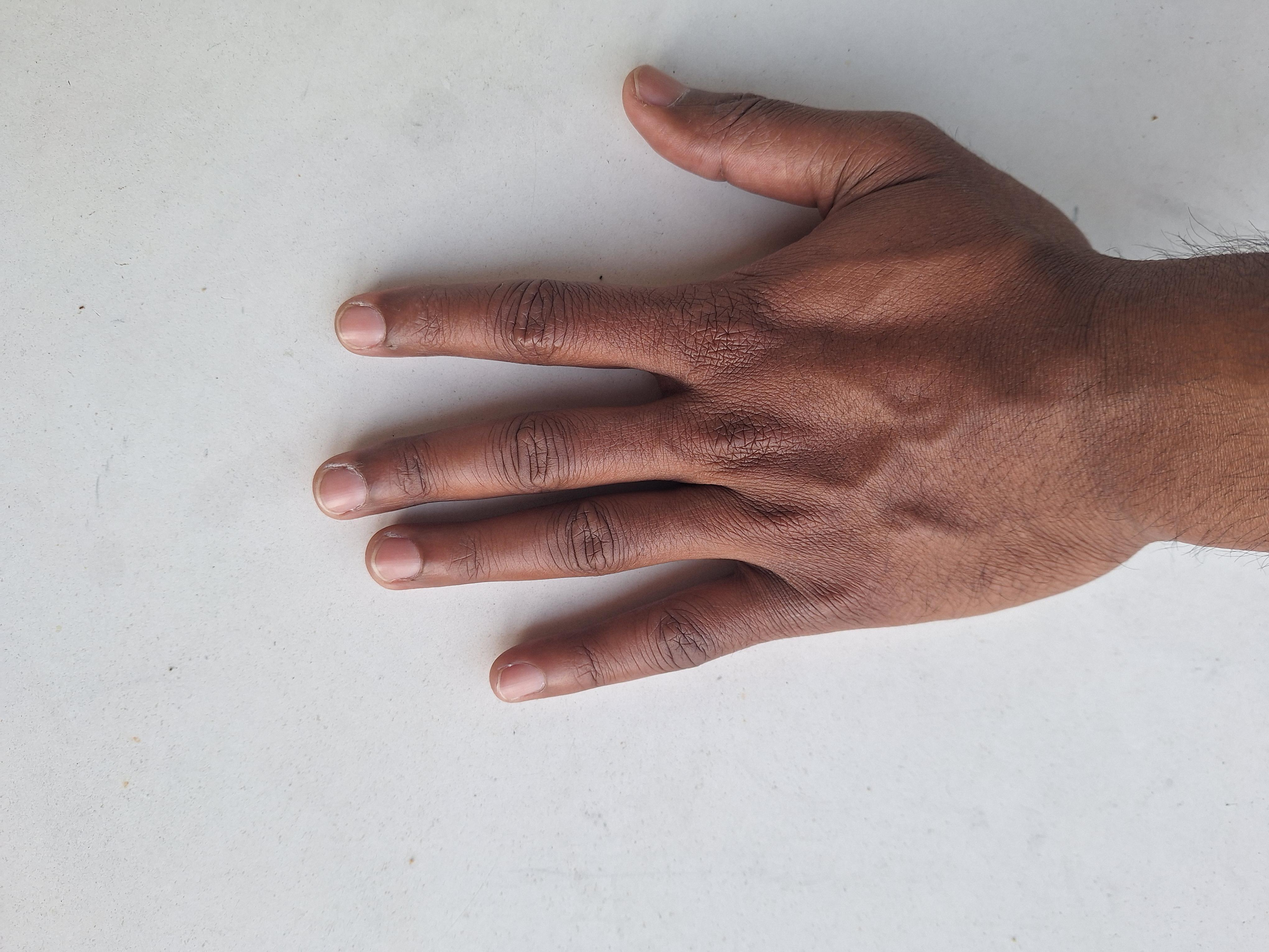Fingernail: (316, 467, 366, 515), (634, 64, 687, 107), (371, 536, 420, 582), (337, 305, 385, 349), (497, 664, 545, 701)
